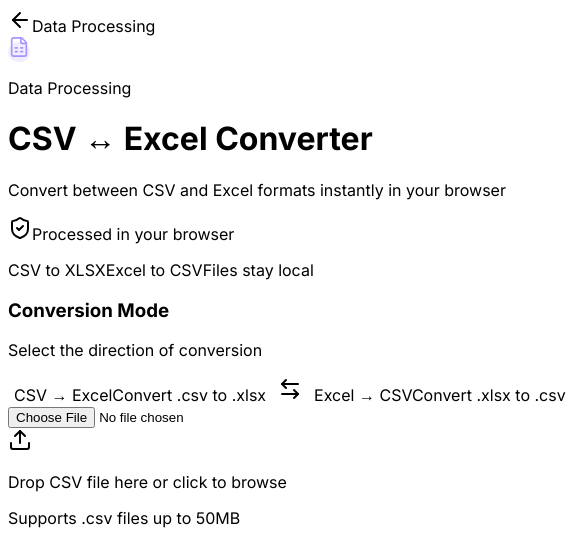
Test: CSVExcelConverterPage › Mode Selection › swaps mode when clicking the swap button
expect the text "Drop CSV file here or click to browse" is shown: met, box x1=8 y1=472 x2=287 y2=492
Note: Find and click the swap button (has ArrowLeftRight icon)
Click the button named "switch conversion mode".
click(290, 391)  # box x1=272 y1=376 x2=308 y2=406
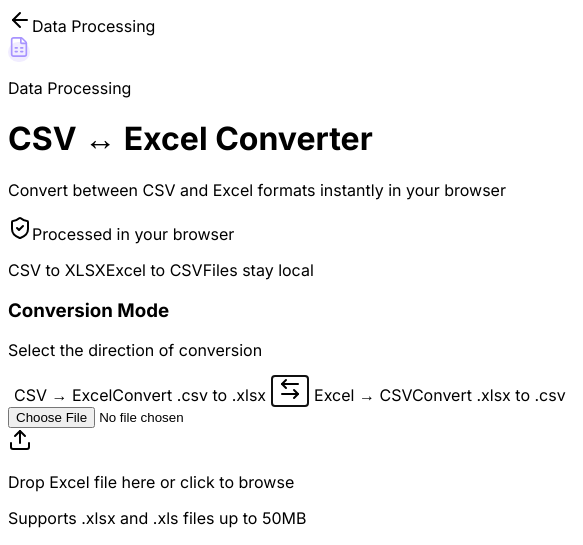
expect the text "Drop Excel file here or click to browse" is shown: met, box x1=8 y1=472 x2=294 y2=492
